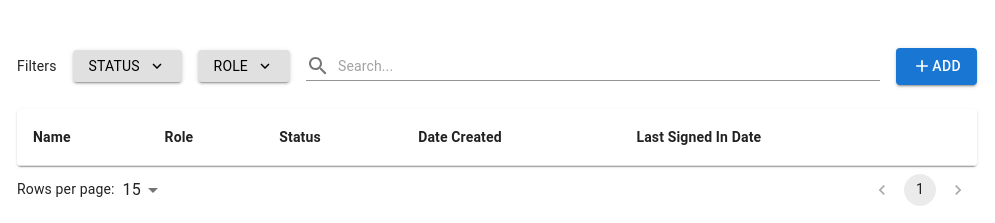
Test case: UserPage Component Functions › handleNameOrderToggle cycles through sorting orders
Note: First click should set to 'asc'
Click the text "Name" at (52, 136), box [33, 128, 71, 144]
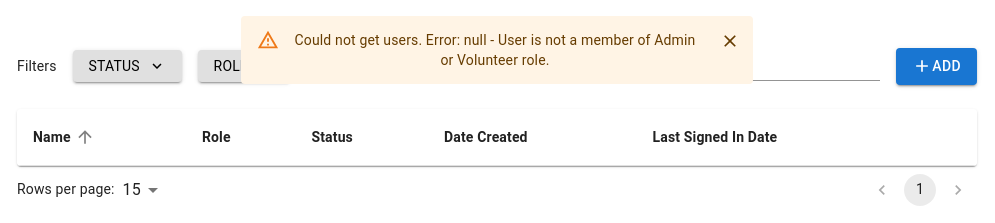
Expected: the icon with test id "ArrowUpwardIcon" is shown, [75, 126, 95, 146]
Note: Second click should set to 'desc'
Click the text "Name" at (64, 136), box [33, 126, 95, 146]
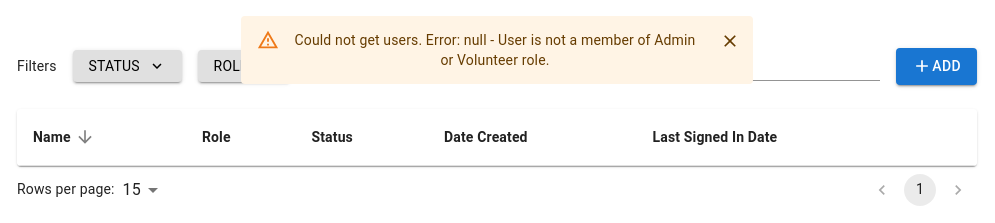
Expected: the icon with test id "ArrowDownwardIcon" is shown, [75, 126, 95, 146]
Note: Third click should reset to 'original' (no icon)
Click the text "Name" at (64, 136), box [33, 126, 95, 146]
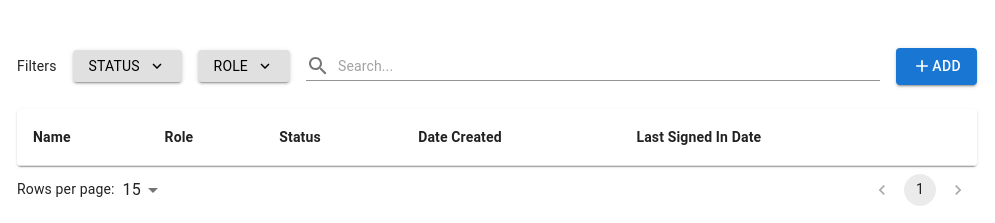
Expected: the icon with test id "ArrowDownwardIcon" is gone
